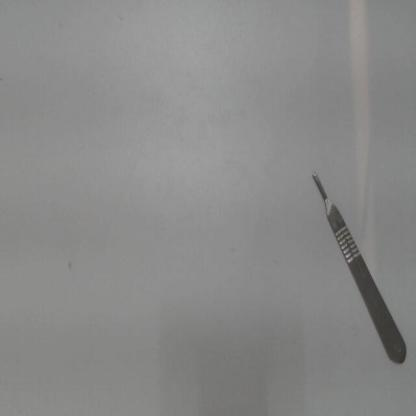No.3 BP Handle: (298, 155, 414, 376)
